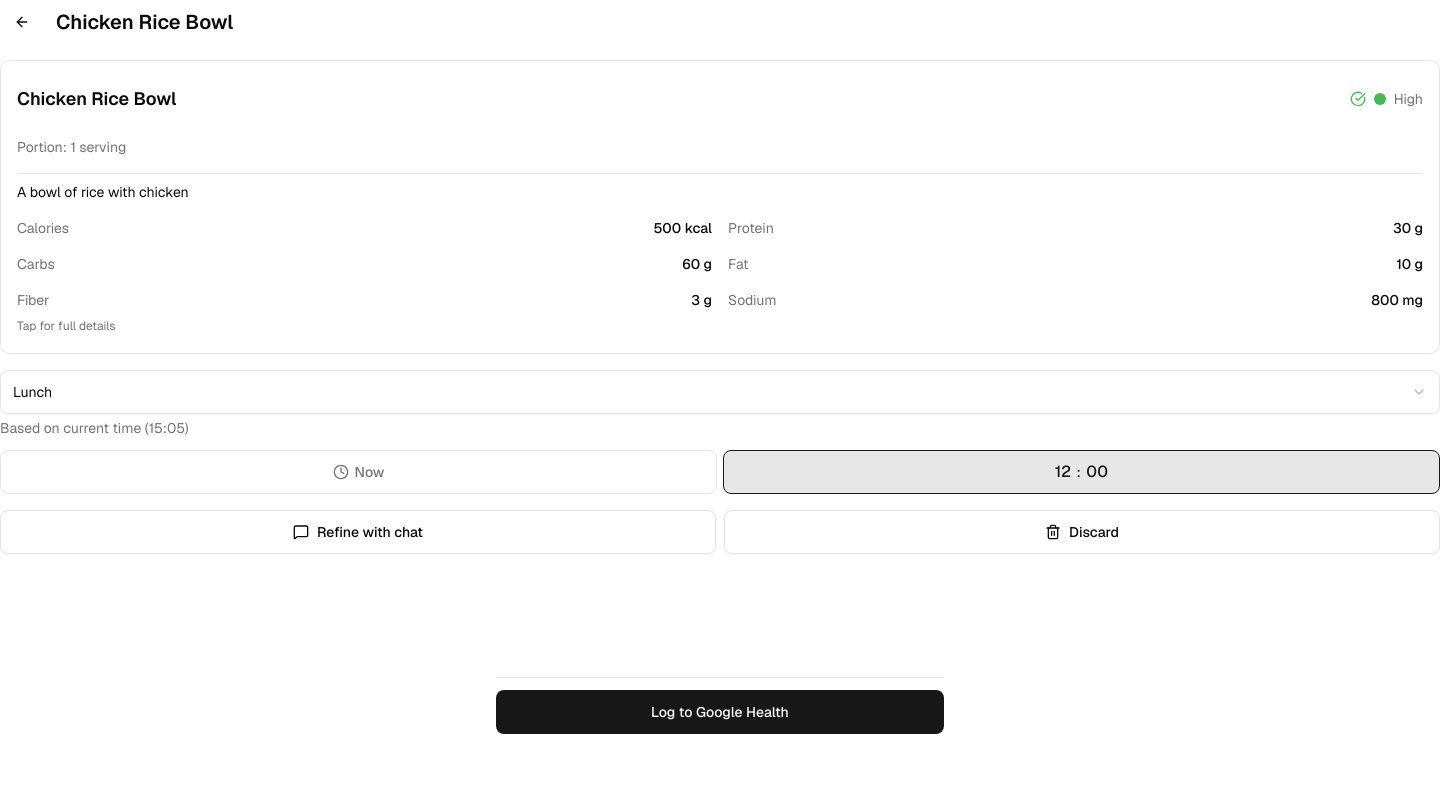
Scenario: SavedFoodDetail › FOO-907: unchecked DELETE responses + missing timeouts › handleDiscard shows error when DELETE returns non-2xx (does NOT navigate)
What coordinates should you click on to do the following:
click the button "Discard"
I would click on:
 (1082, 532)
Its box is 724,510 -> 1439,554.
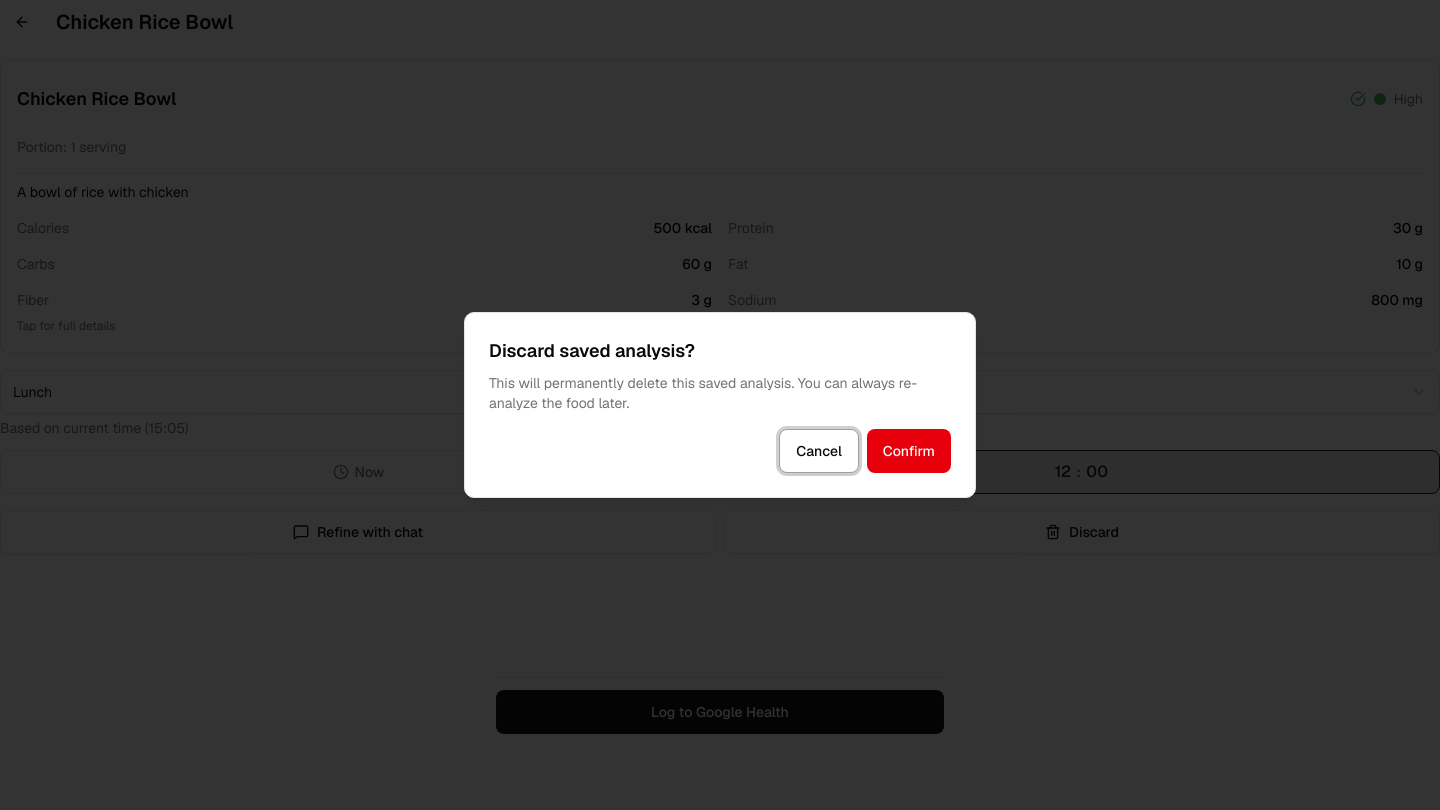
What coordinates should you click on to do the following:
click the button "Confirm"
I would click on:
 (909, 451)
Its box is 867,429 -> 951,473.
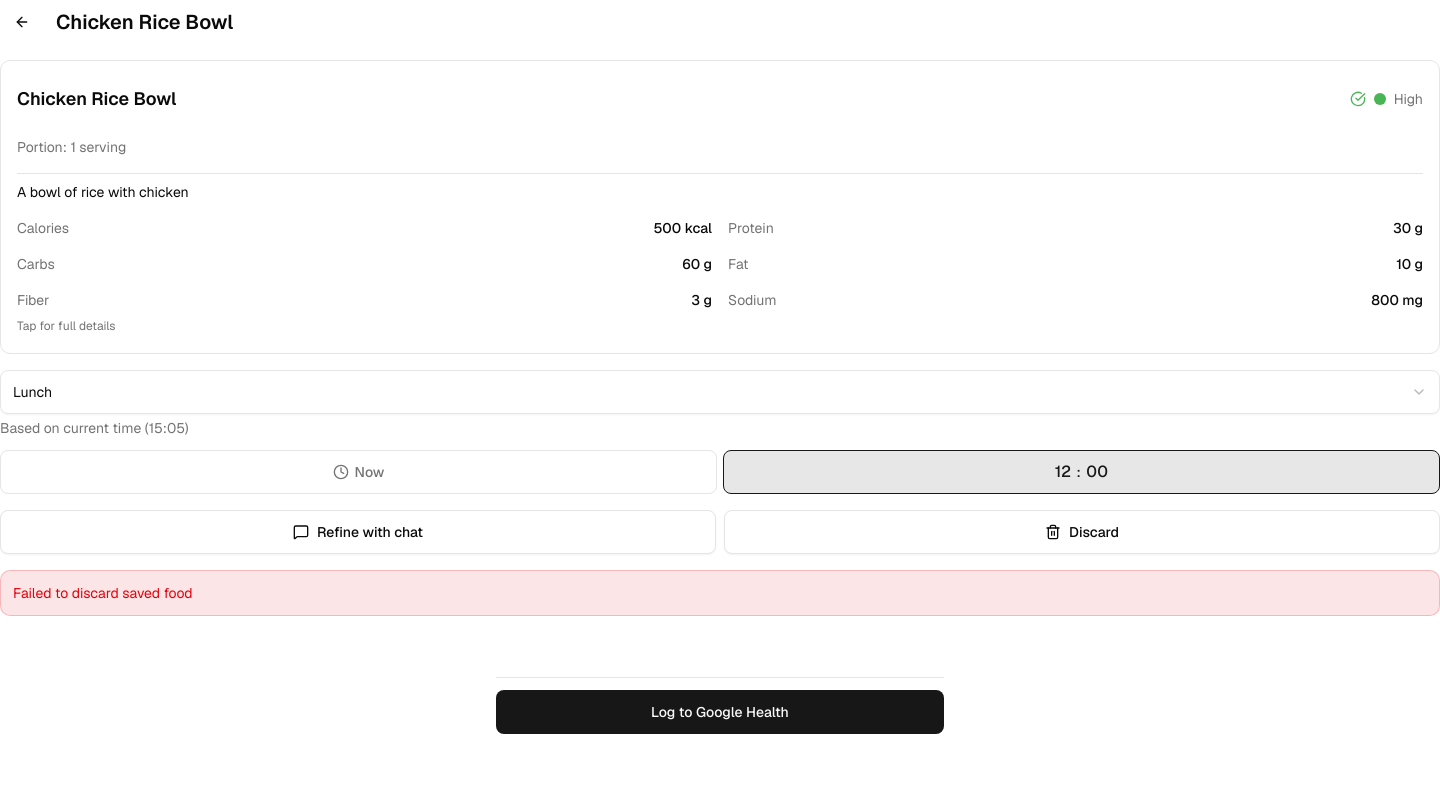
Expected: the element with test id "log-error" is shown, 0,570 -> 1439,616
Expected: the dialog is gone
